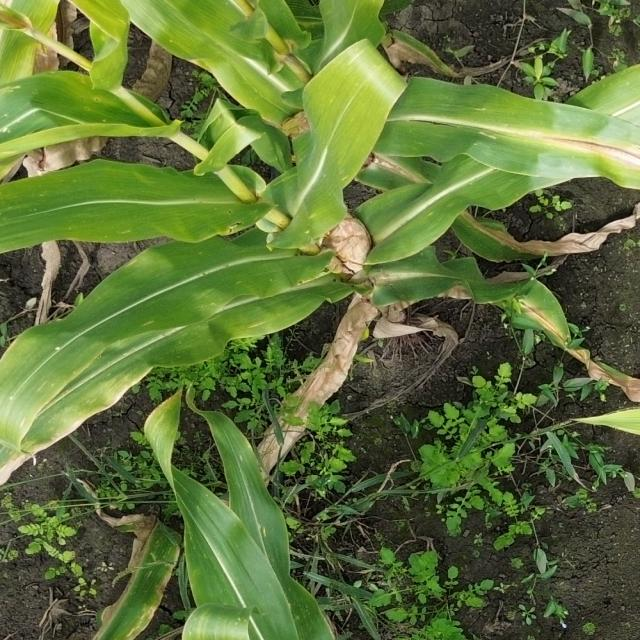gray-leaf-spot: (54, 379, 121, 421), (10, 370, 49, 430)
northern-leaf-blight: (486, 108, 640, 180), (508, 286, 574, 338), (371, 147, 439, 193)
southern-leaf-blight: (42, 72, 118, 124), (177, 492, 231, 562), (4, 183, 62, 229), (282, 587, 330, 640)
